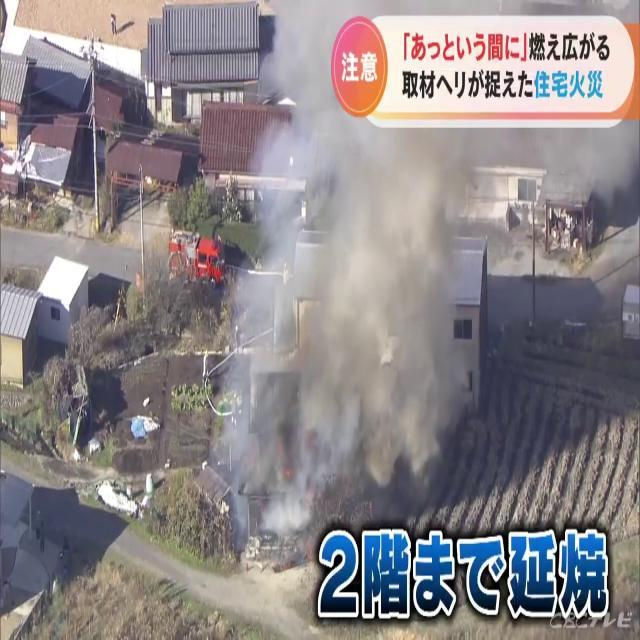Smoke: (212, 5, 470, 547)
